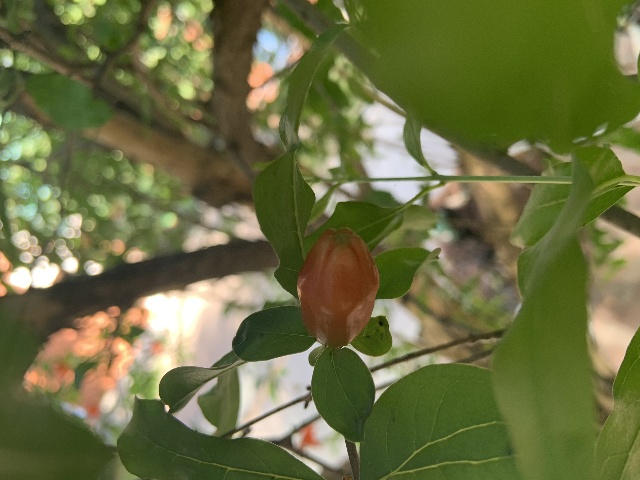bud: (297, 227, 379, 348)
